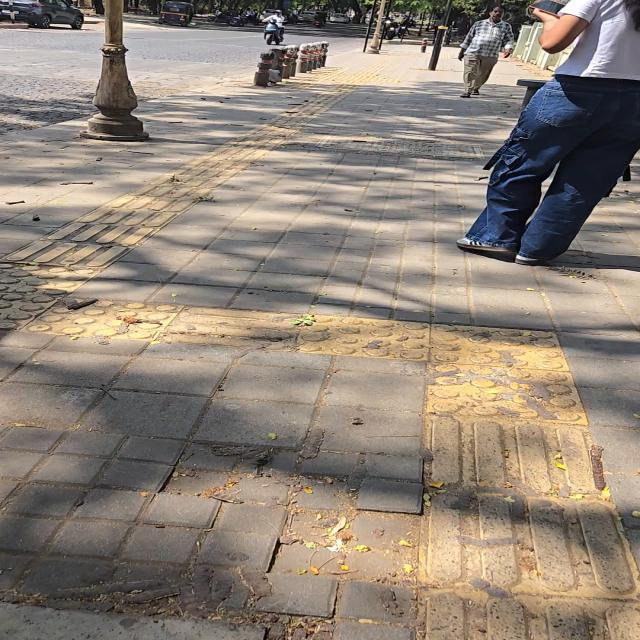obstacle: (81, 0, 148, 141), (428, 0, 452, 70), (367, 0, 387, 53), (517, 79, 546, 109), (379, 0, 393, 51), (254, 52, 274, 86), (363, 0, 376, 52), (271, 47, 285, 81), (297, 44, 309, 73), (283, 46, 293, 79), (290, 45, 299, 77), (306, 43, 315, 72), (321, 41, 329, 66), (418, 12, 426, 36), (312, 43, 319, 69), (315, 42, 322, 68), (9, 0, 15, 23), (421, 38, 427, 53)
person: (458, 0, 639, 265), (459, 6, 513, 97), (262, 10, 284, 38)
